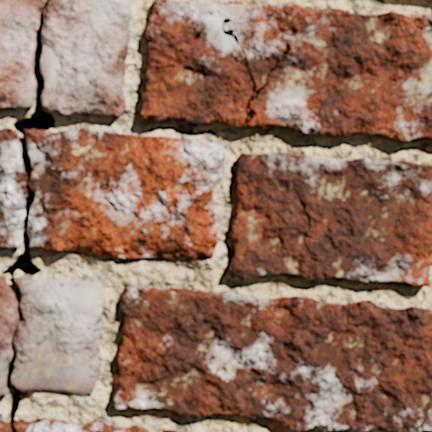brick: (114, 285, 431, 431), (142, 0, 431, 140), (228, 154, 431, 285)
broken_brick: (25, 127, 225, 259), (0, 0, 132, 116), (12, 276, 103, 397), (0, 127, 25, 247), (15, 417, 181, 431), (0, 284, 16, 396), (0, 419, 8, 431)
crack: (0, 1, 55, 431), (221, 16, 294, 127)
